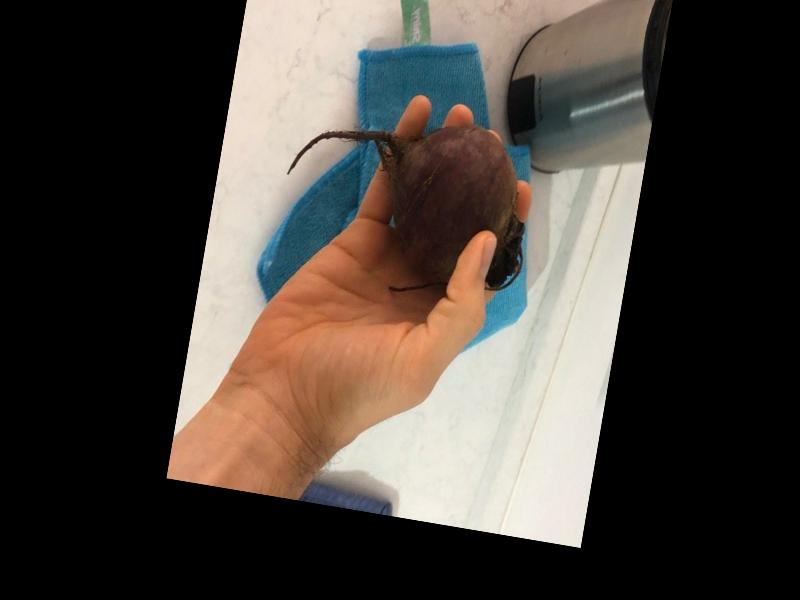Beet: (271, 96, 542, 310)
